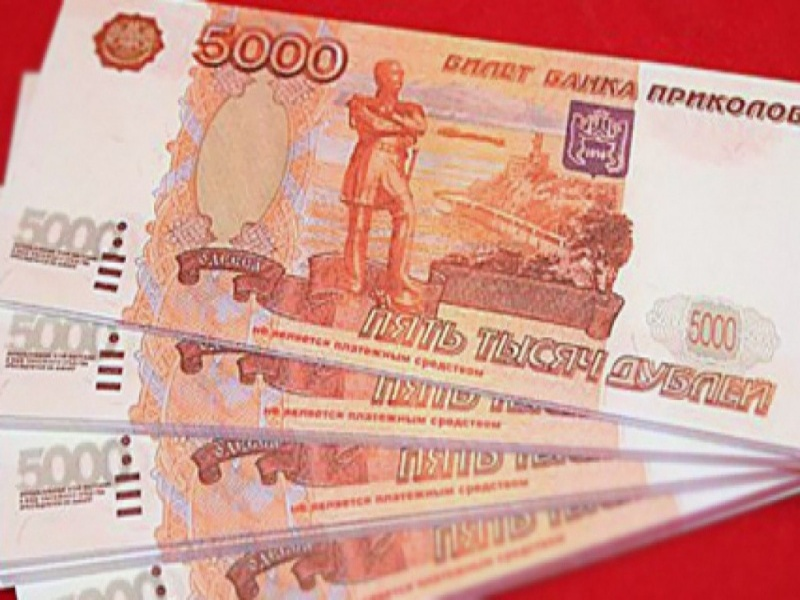cash: (2, 1, 800, 600)
